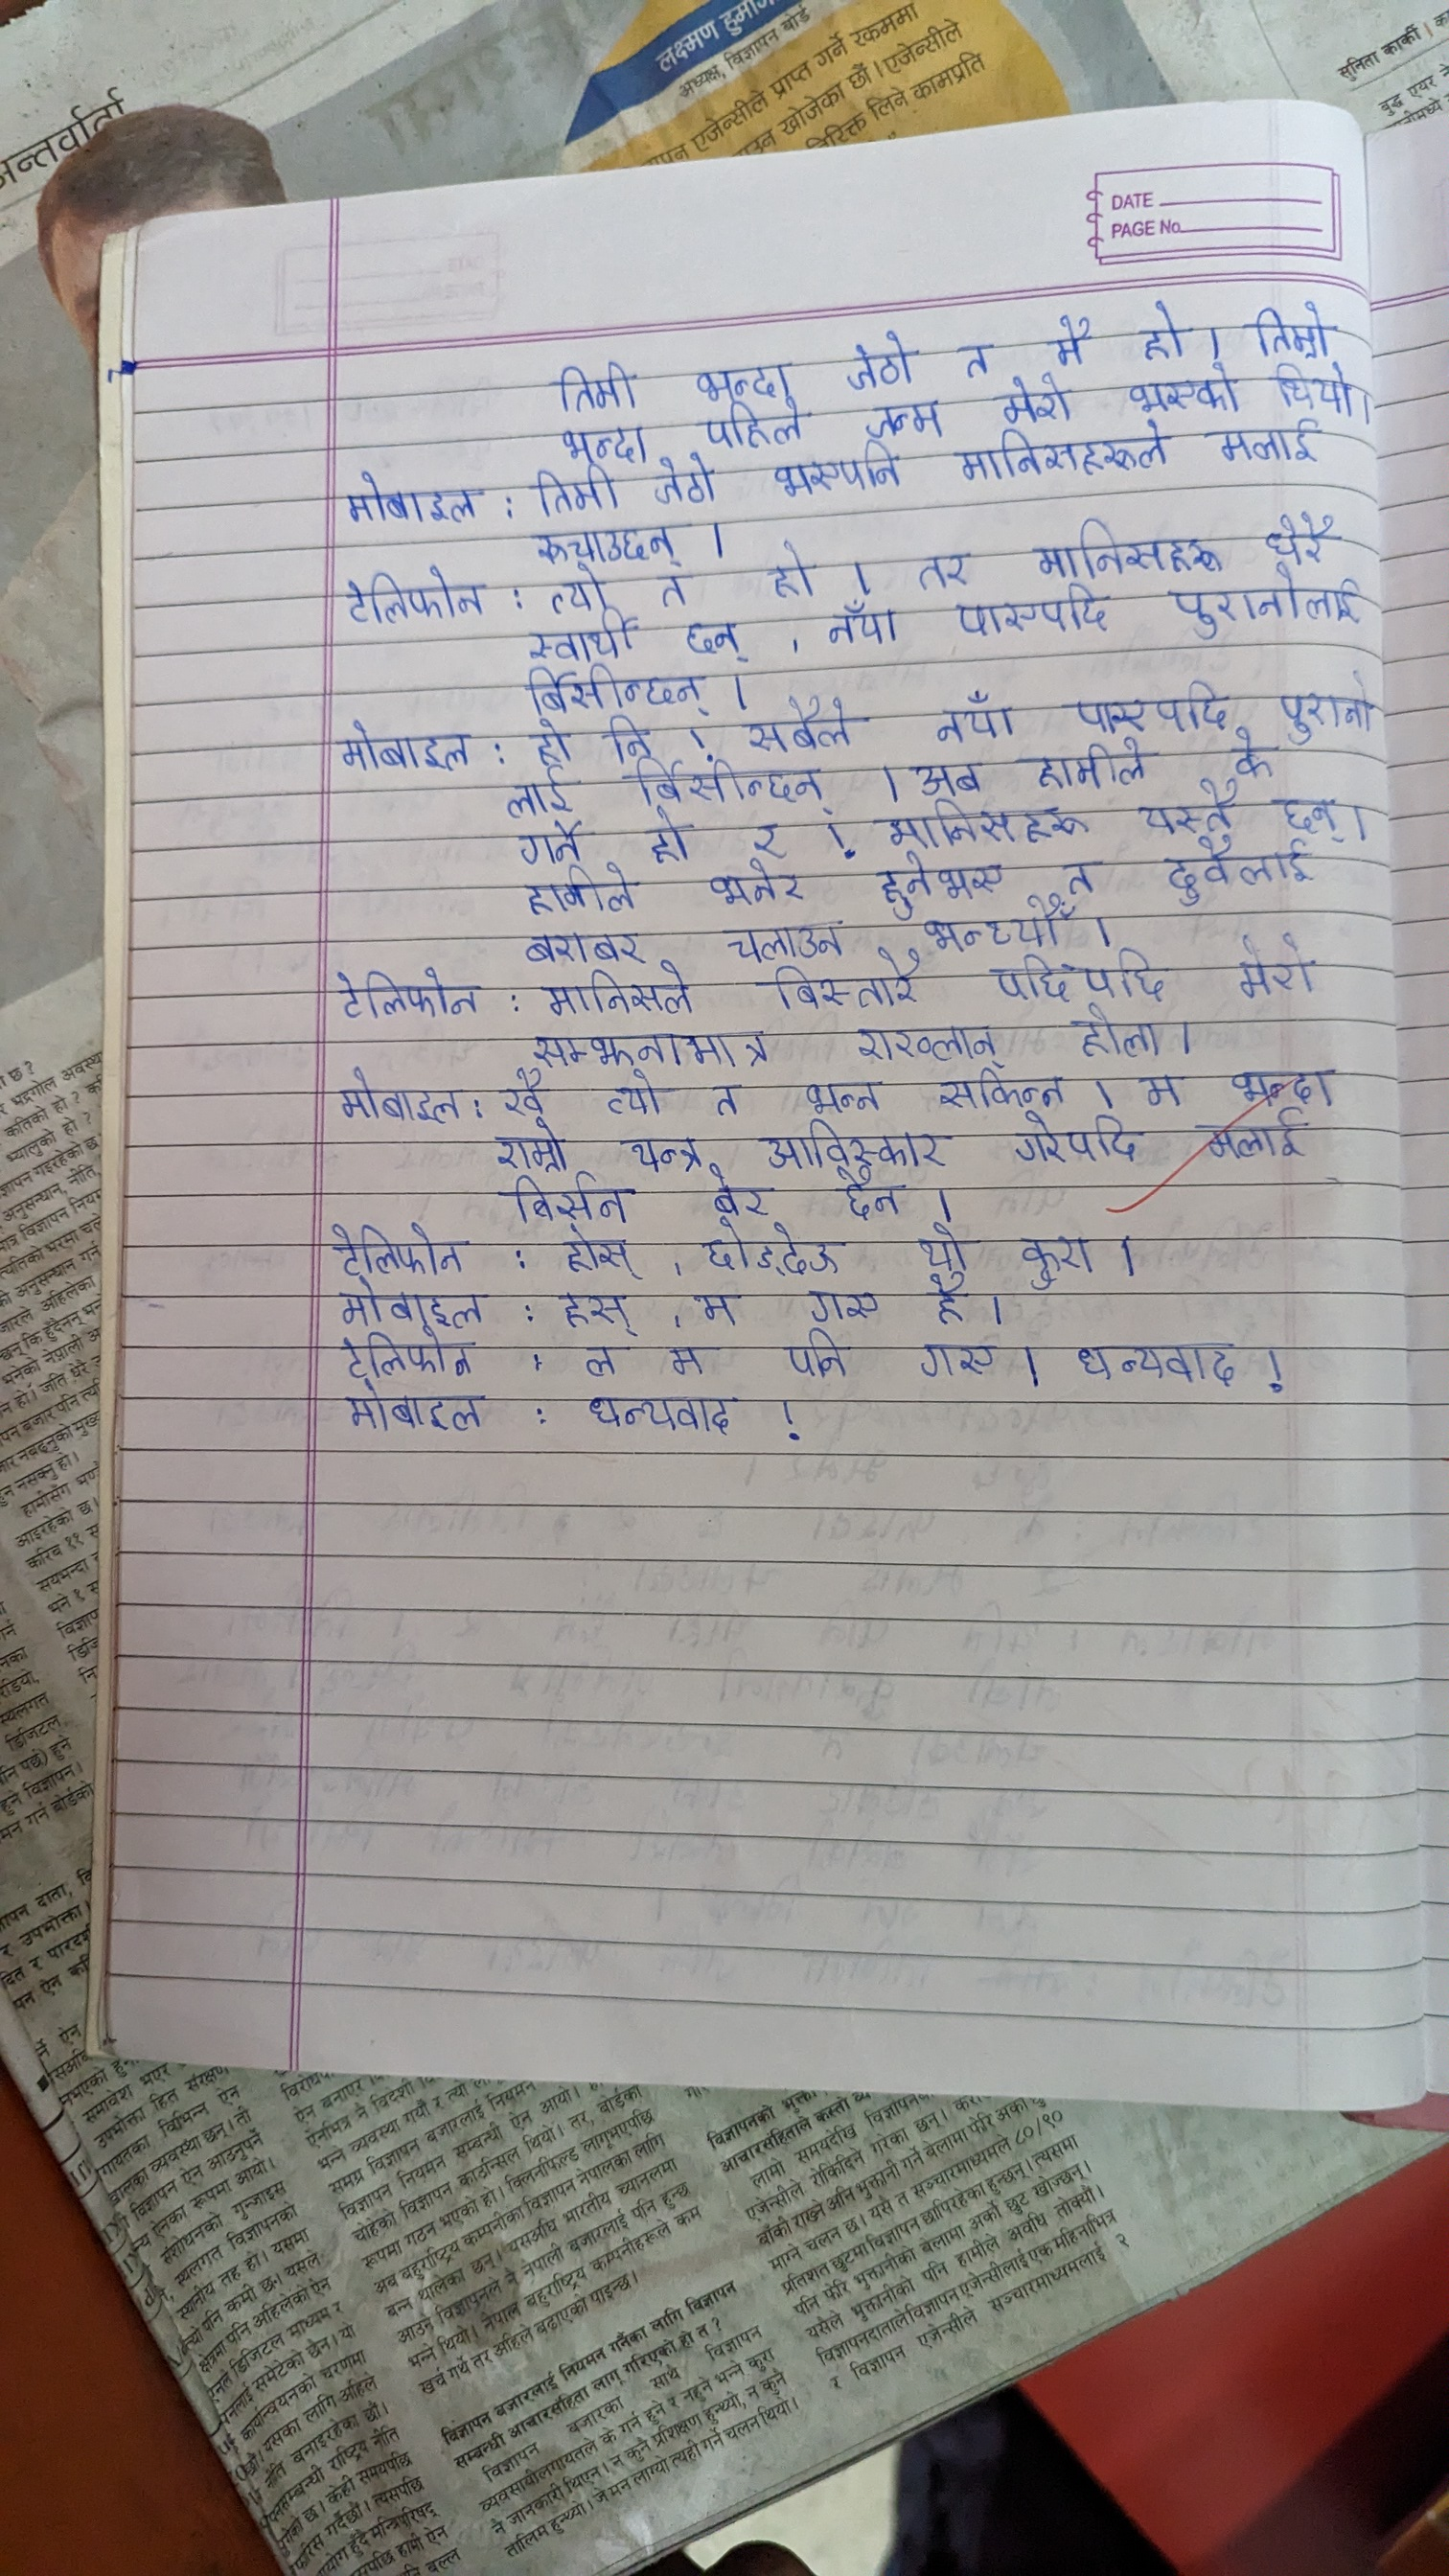text: (955, 433, 1178, 485), (1026, 518, 1226, 575), (1169, 577, 1357, 635), (1070, 1330, 1242, 1391), (527, 1026, 770, 1069), (1067, 674, 1235, 732), (329, 1060, 467, 1131), (326, 1214, 471, 1279), (1146, 840, 1320, 893), (764, 1120, 950, 1169), (987, 952, 1175, 1000), (515, 665, 706, 711), (582, 1387, 747, 1440), (1270, 662, 1376, 743), (945, 593, 1118, 642), (699, 1221, 849, 1277), (881, 805, 1088, 846), (343, 1384, 492, 1440), (632, 763, 828, 805), (341, 566, 490, 621), (1005, 1115, 1155, 1168), (1221, 934, 1332, 1005), (336, 964, 483, 1017), (761, 962, 929, 1008), (327, 718, 476, 770), (846, 1014, 996, 1063), (878, 853, 1005, 909), (333, 1283, 492, 1327), (336, 1330, 478, 1378), (341, 476, 488, 522), (741, 695, 863, 750), (499, 1177, 635, 1223), (773, 451, 906, 497), (1238, 295, 1334, 359), (1065, 1007, 1173, 1062), (1127, 366, 1246, 416), (517, 925, 649, 970), (939, 1069, 1076, 1111), (525, 465, 630, 520), (1231, 1060, 1343, 1111), (515, 869, 648, 911), (724, 913, 846, 959), (543, 975, 694, 1012), (922, 911, 1079, 947), (1039, 738, 1146, 789), (531, 529, 686, 564), (929, 686, 1021, 743), (1214, 423, 1327, 467), (525, 617, 642, 660), (547, 361, 644, 410), (1019, 1226, 1100, 1284), (1201, 1115, 1313, 1157), (548, 1284, 646, 1332), (697, 405, 807, 446), (800, 1069, 892, 1115), (835, 336, 916, 387), (490, 1120, 571, 1171), (561, 1226, 642, 1277), (1272, 363, 1355, 412), (1260, 508, 1338, 559), (702, 867, 809, 904), (695, 361, 800, 398), (918, 1338, 1001, 1384), (856, 396, 948, 437), (1132, 294, 1189, 359), (993, 379, 1076, 423), (784, 1330, 858, 1378), (911, 761, 998, 801), (502, 777, 582, 821), (835, 1169, 906, 1219), (600, 1069, 665, 1122), (676, 616, 757, 658), (1138, 796, 1246, 828), (763, 543, 821, 602), (826, 600, 897, 648), (653, 464, 725, 510), (513, 821, 584, 867), (809, 1283, 881, 1327), (623, 1131, 708, 1168), (916, 1219, 973, 1274), (552, 426, 648, 458), (1277, 791, 1343, 837), (545, 568, 607, 614), (1044, 315, 1099, 366), (909, 545, 975, 586), (499, 1069, 554, 1116), (646, 812, 694, 865), (711, 1166, 761, 1215), (602, 717, 662, 757), (697, 1085, 755, 1123), (694, 1284, 745, 1329), (927, 1277, 971, 1329), (531, 720, 573, 770), (667, 1338, 709, 1384), (1134, 1069, 1185, 1106), (579, 1343, 628, 1380), (959, 333, 996, 377), (750, 821, 793, 858), (1230, 743, 1274, 778), (1060, 855, 1100, 892), (651, 573, 694, 603)
